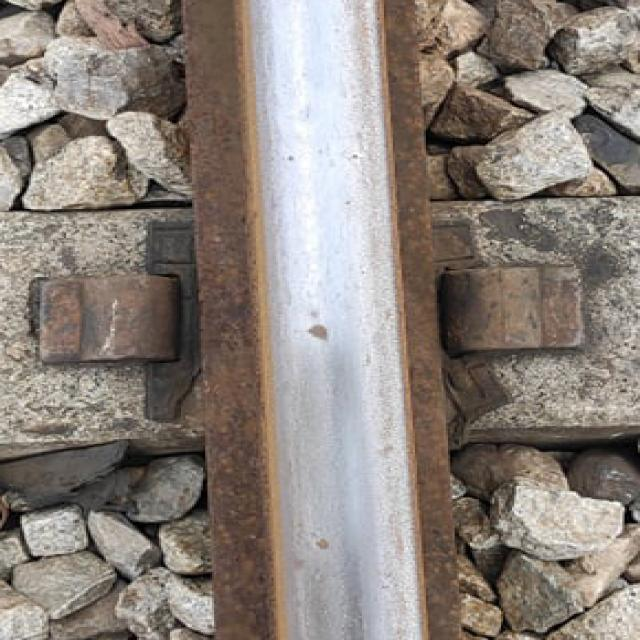head_checks_low: (293, 312, 343, 346), (300, 530, 342, 556)
